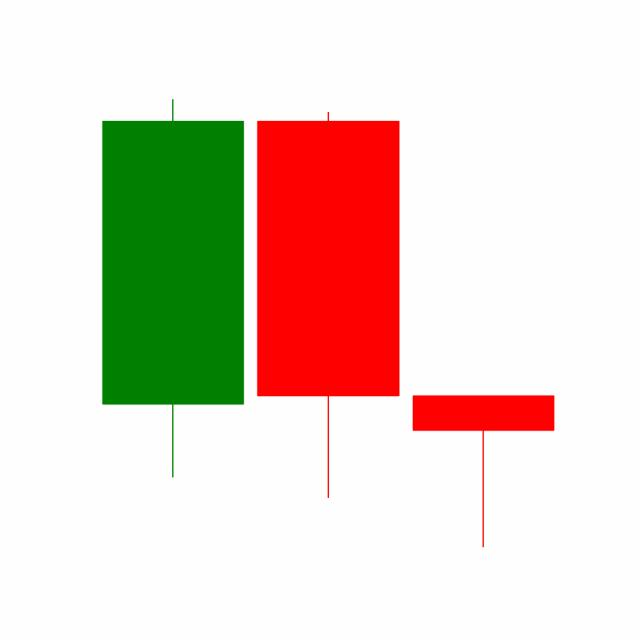Dragonfly Doji: (405, 393, 561, 548)
